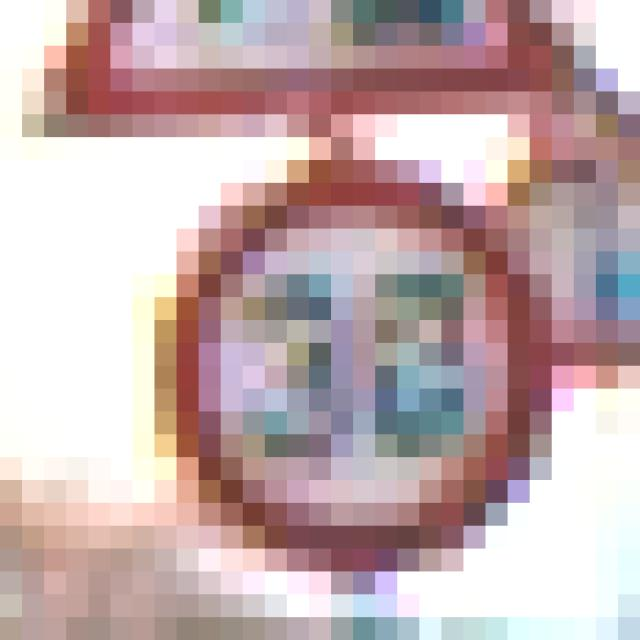Speed Limit -30-: (100, 103, 497, 514)
